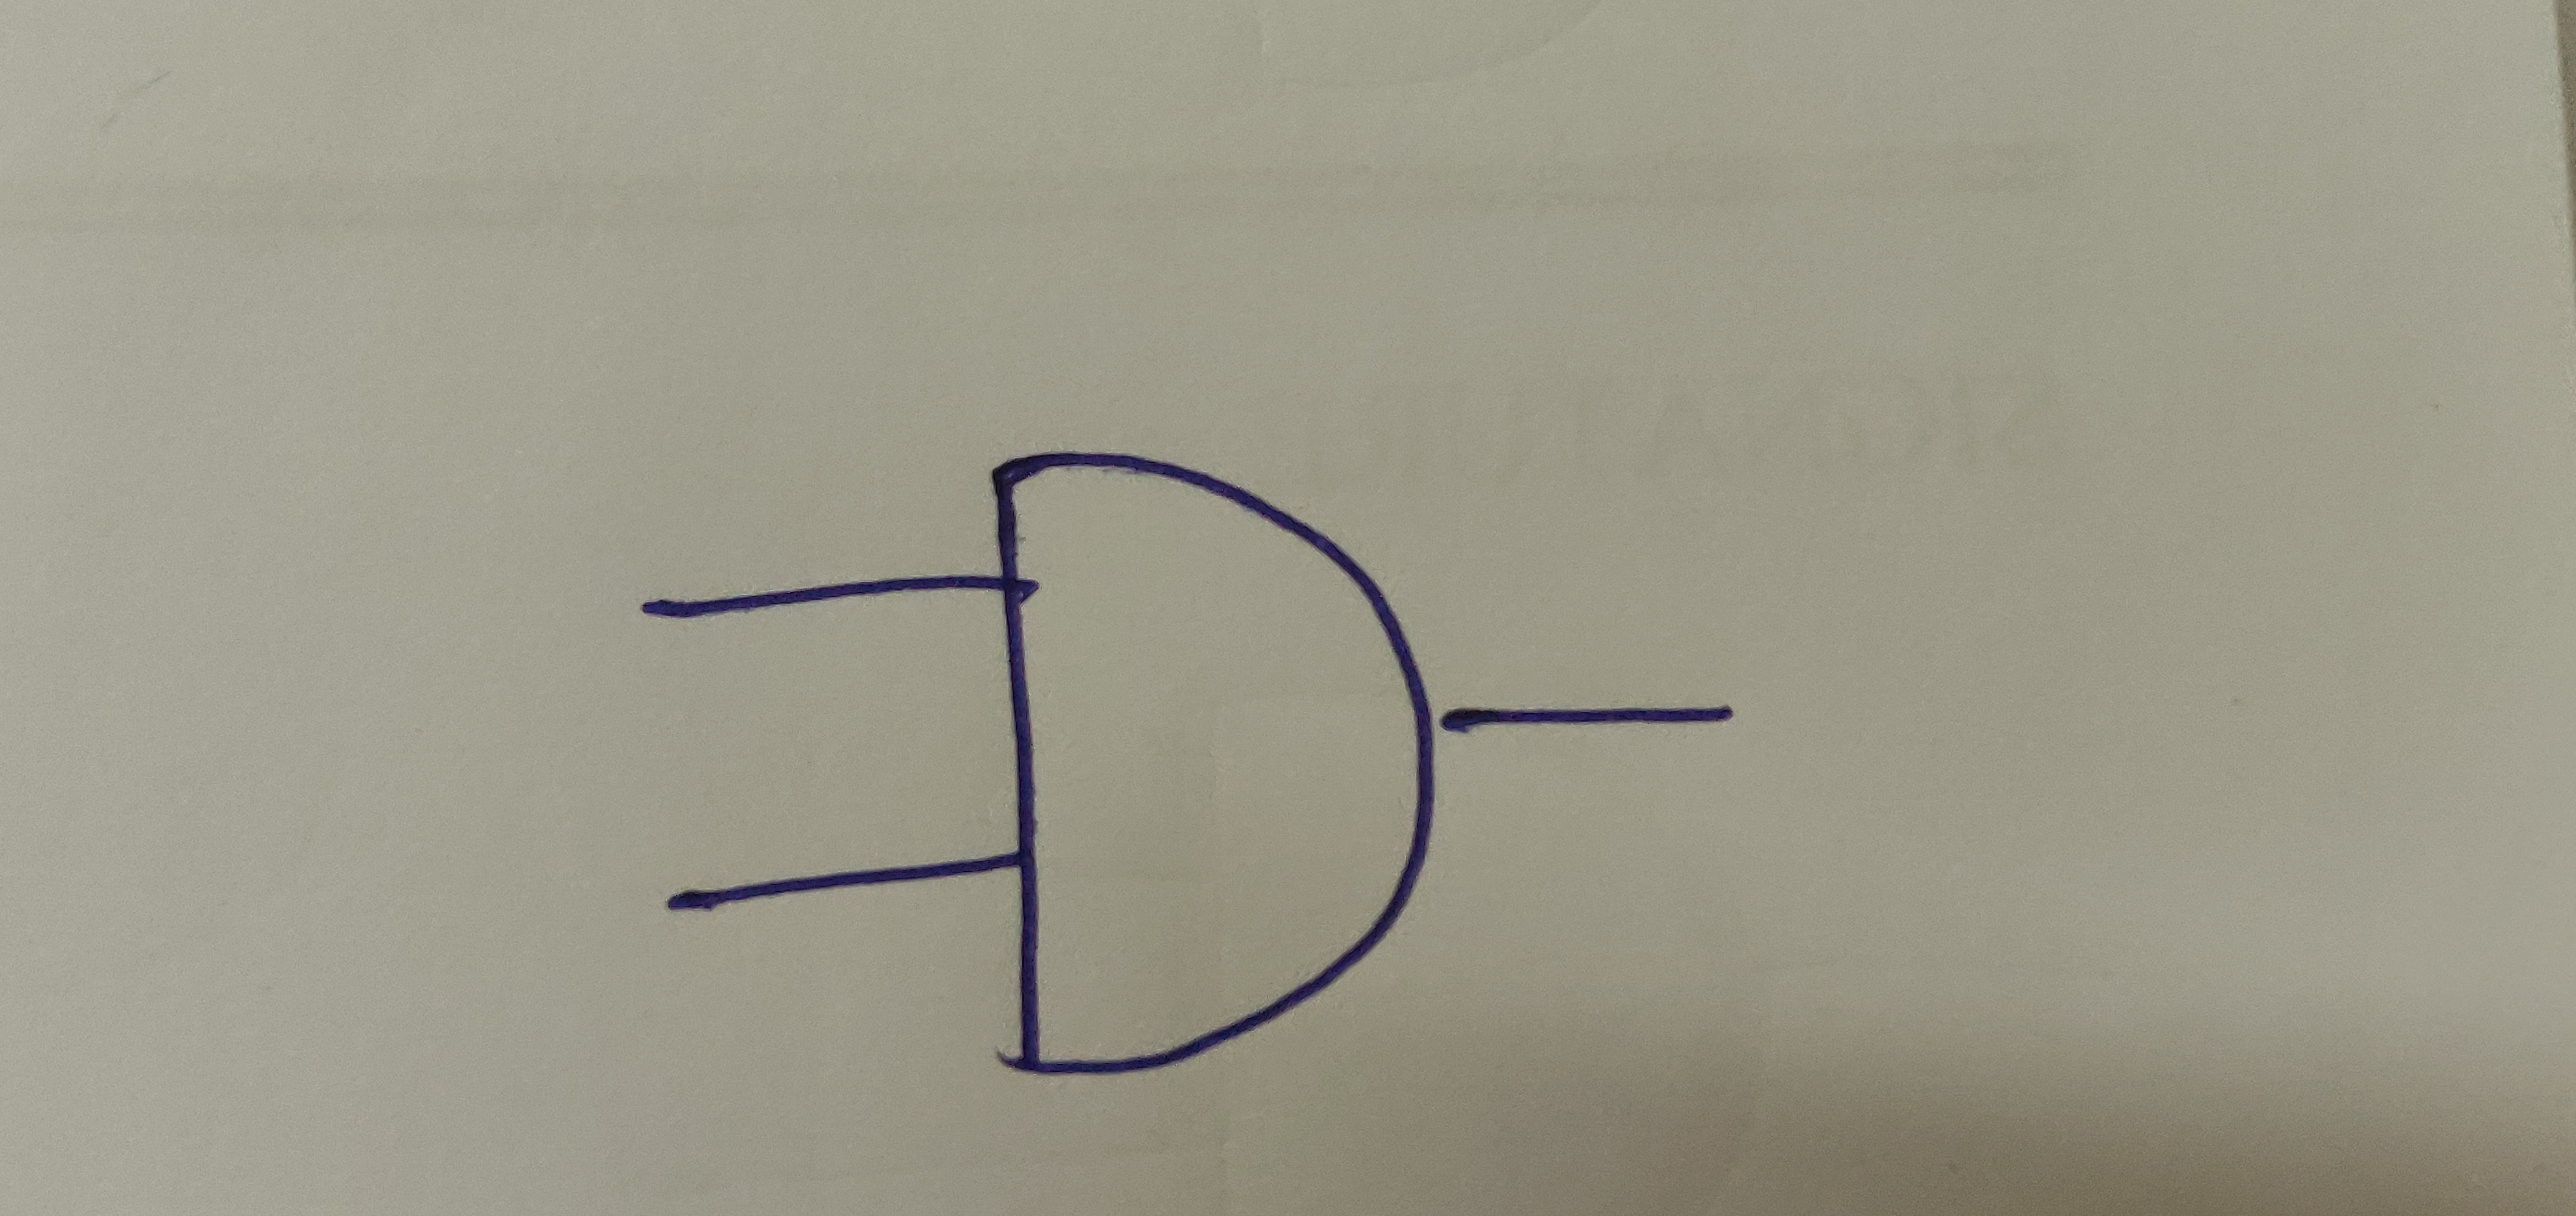and: (984, 454, 1442, 1078)
